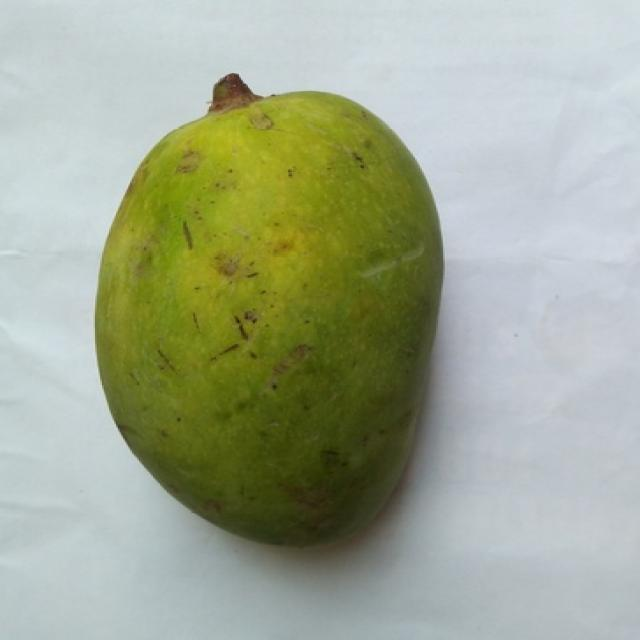Mango: (97, 76, 443, 545)
